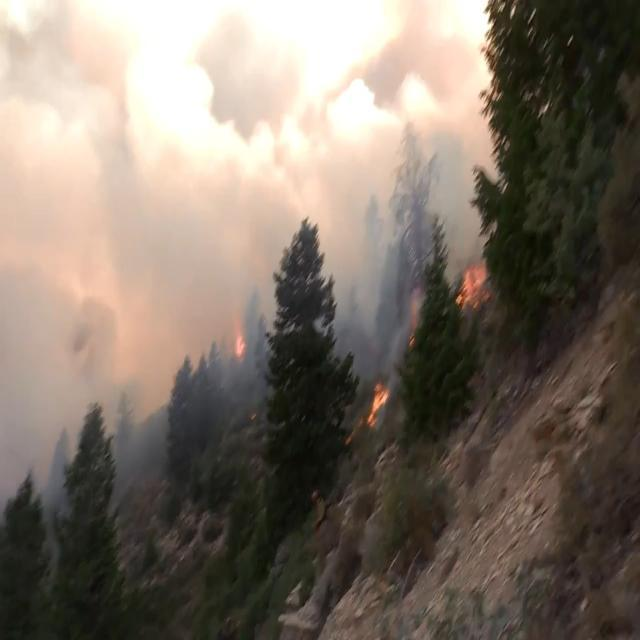Fire: (452, 250, 494, 317)
